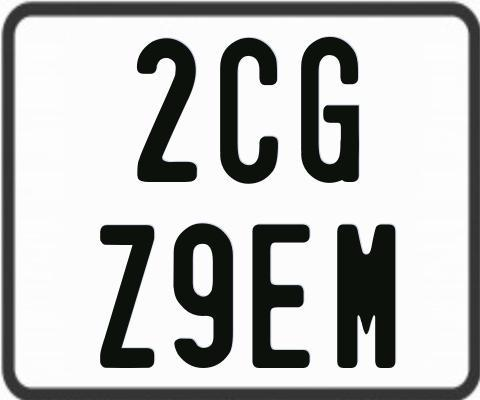2: (134, 38, 195, 188)
9: (173, 220, 238, 370)
C: (217, 36, 279, 184)
E: (251, 222, 311, 366)
G: (300, 37, 363, 186)
M: (336, 222, 394, 367)
Z: (100, 223, 158, 371)
